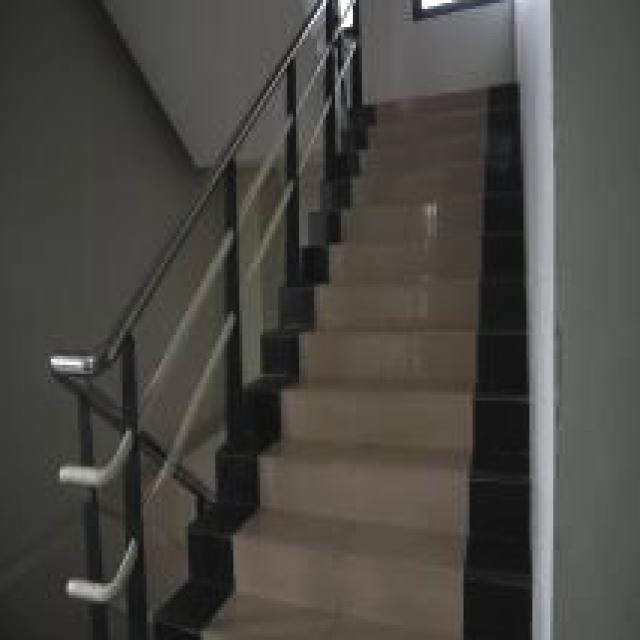upstair: (279, 139, 527, 617)
